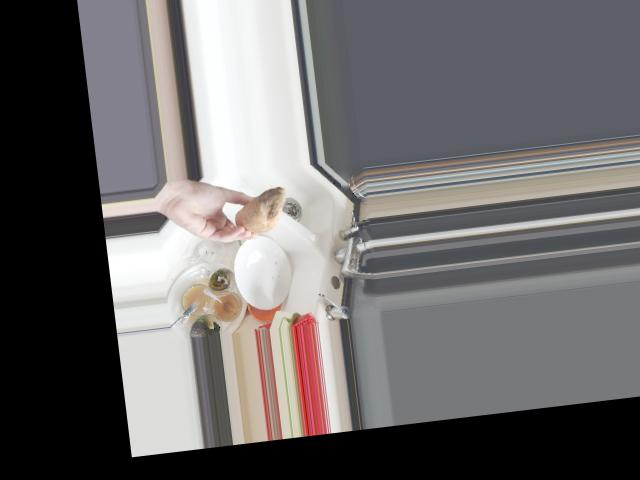sweet_potato: (231, 182, 291, 238)
